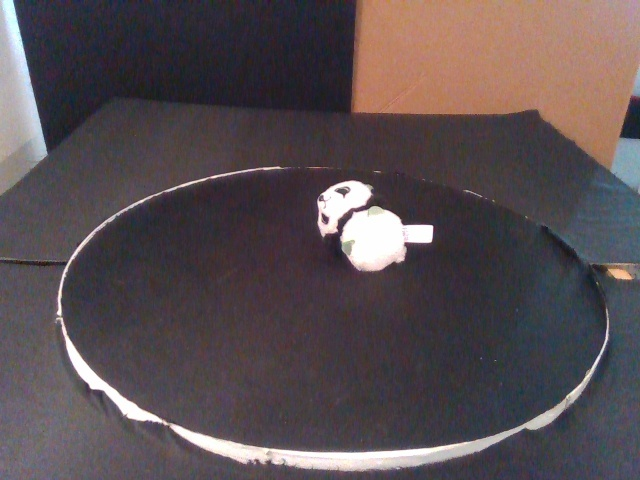teddy_bear: (316, 180, 434, 274)
